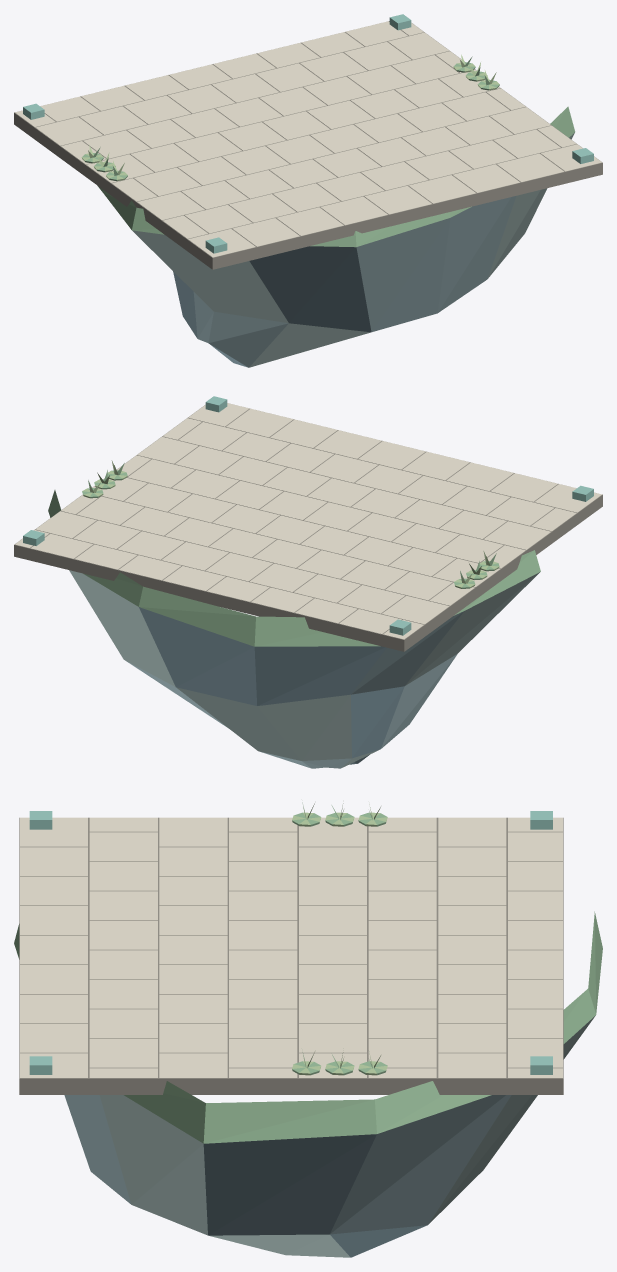
Rendered from FloatingIsland31.glb.
The picture shows the model from 3 angles, top to bottom: view 1: azimuth 30°, elevation 25°; view 2: azimuth 150°, elevation 25°; view 3: azimuth 270°, elevation 25°; orthographic projection. The views are drawn at different scales.
Parts seen in each view (by area): view 1: FloatingIsland31; view 2: FloatingIsland31; view 3: FloatingIsland31.
Boxes of the visible parts, bbox=[...] form: FloatingIsland31: bbox=[14, 14, 602, 367]; FloatingIsland31: bbox=[14, 396, 602, 768]; FloatingIsland31: bbox=[14, 802, 602, 1257].
Bounding box in the file's own units: 10.47 × 5.52 × 8.87.
